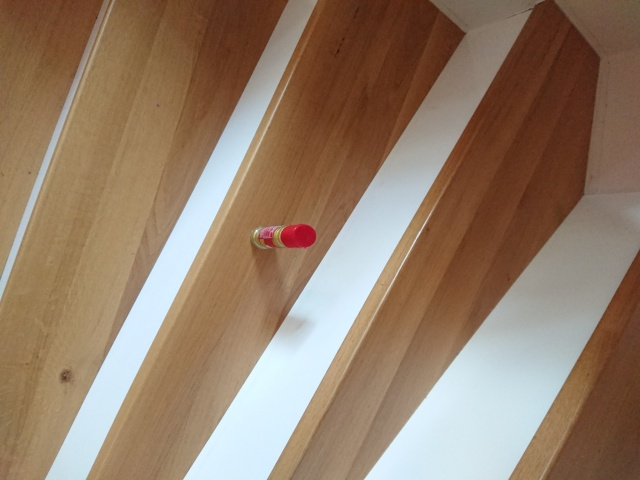Kotanyi Curry Spices Mix 70g: (247, 222, 318, 252)
